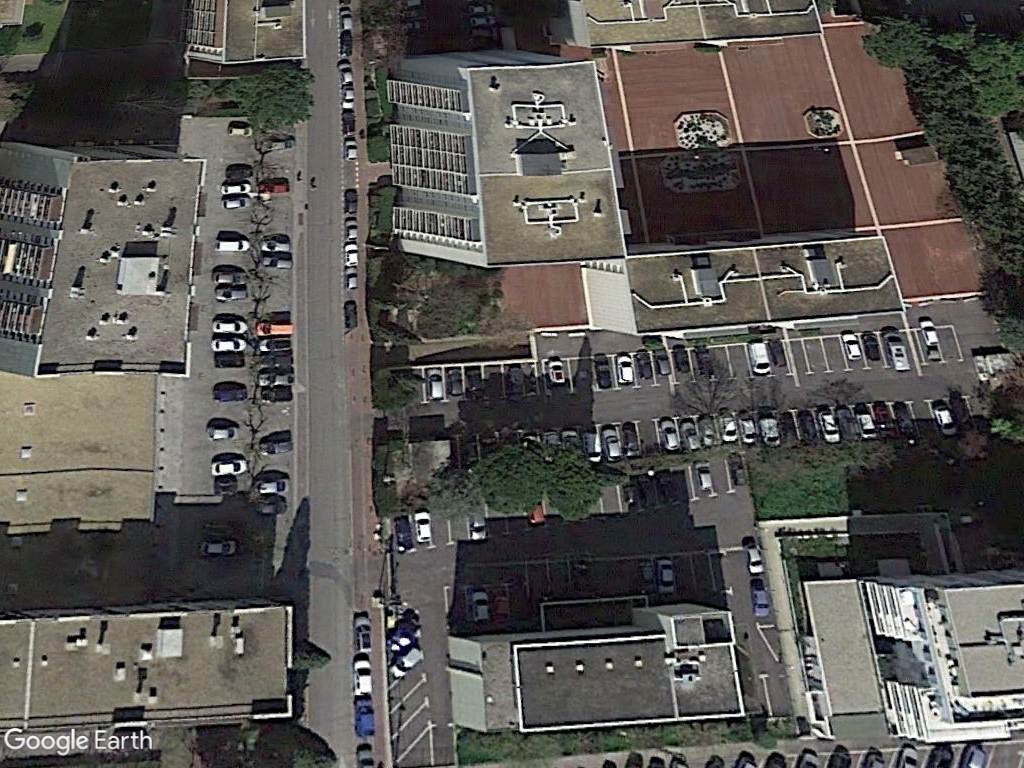car: (349, 653, 376, 701), (815, 407, 844, 445), (932, 404, 961, 440), (654, 415, 681, 453), (756, 412, 782, 450), (611, 351, 638, 387), (209, 314, 252, 336), (423, 365, 447, 403), (599, 425, 623, 463), (210, 267, 254, 287), (208, 455, 252, 475), (468, 591, 493, 626), (198, 538, 240, 558), (412, 508, 434, 546), (917, 313, 940, 349), (204, 422, 245, 442), (211, 235, 254, 254), (840, 329, 862, 363), (212, 336, 250, 354), (219, 179, 254, 196), (219, 196, 254, 213), (342, 136, 361, 167), (225, 121, 257, 139), (212, 287, 250, 302), (342, 217, 360, 244), (342, 242, 360, 268), (344, 187, 359, 218)
van: (743, 338, 773, 377)
